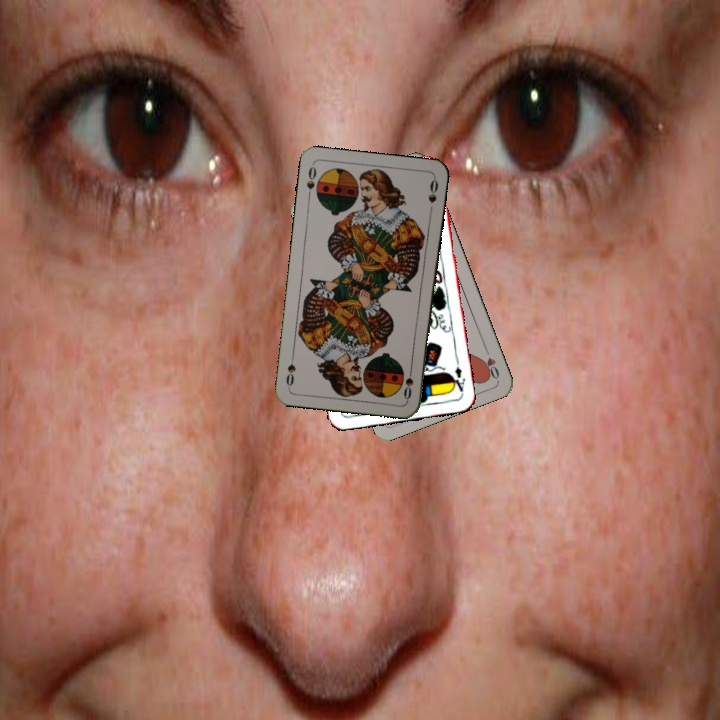EA: (447, 363, 468, 397)
HO: (480, 343, 502, 382)
SO: (400, 362, 416, 402), (303, 162, 319, 202)
